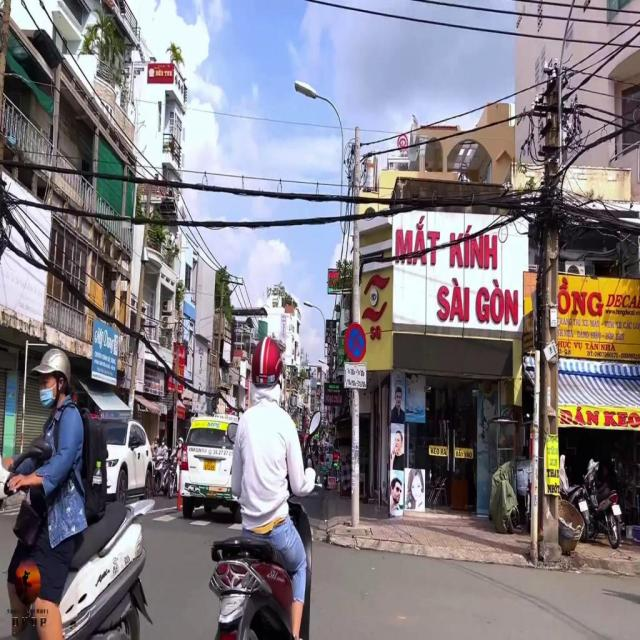cam_dung_xe_va_do_xe: (344, 322, 366, 361)
khac: (344, 363, 366, 388)
